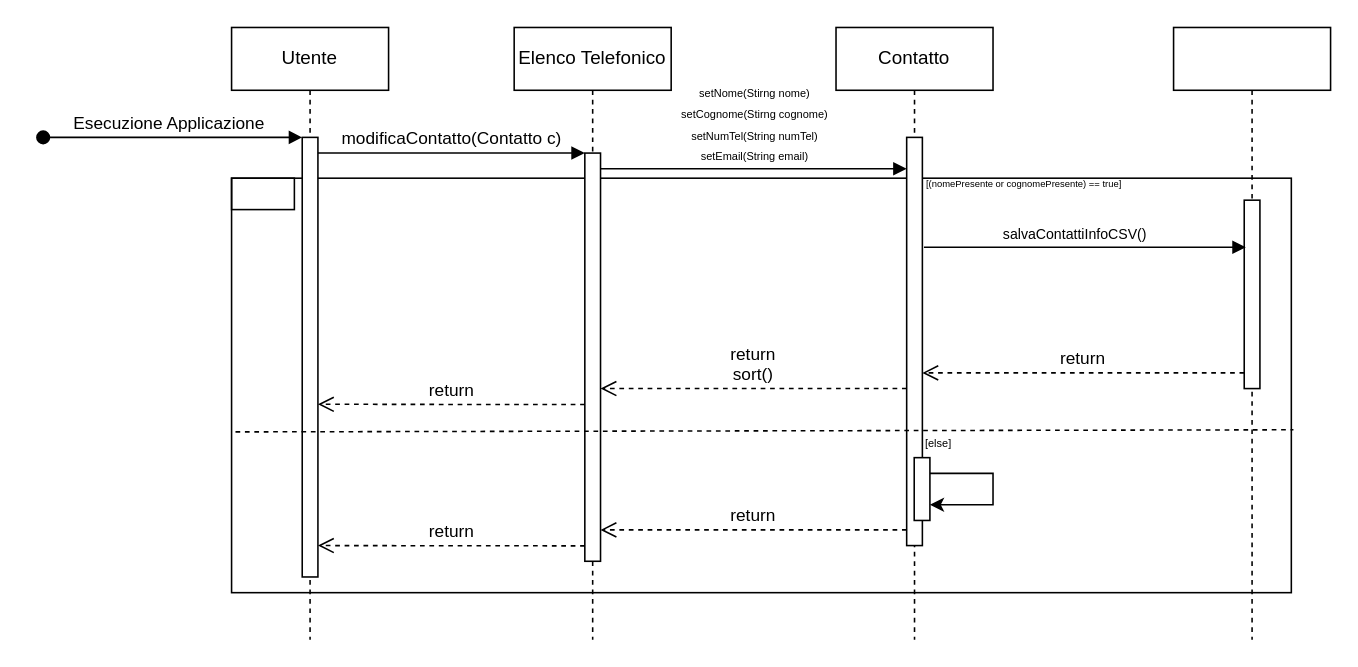
This 1358x667 diagram has some shape labels left out. Here are the shapes that lost their labels. From the top down, the box of each, then its label:
(230, 177, 294, 210): alt
(1172, 26, 1331, 640): GestioneFileEsternoContatti
